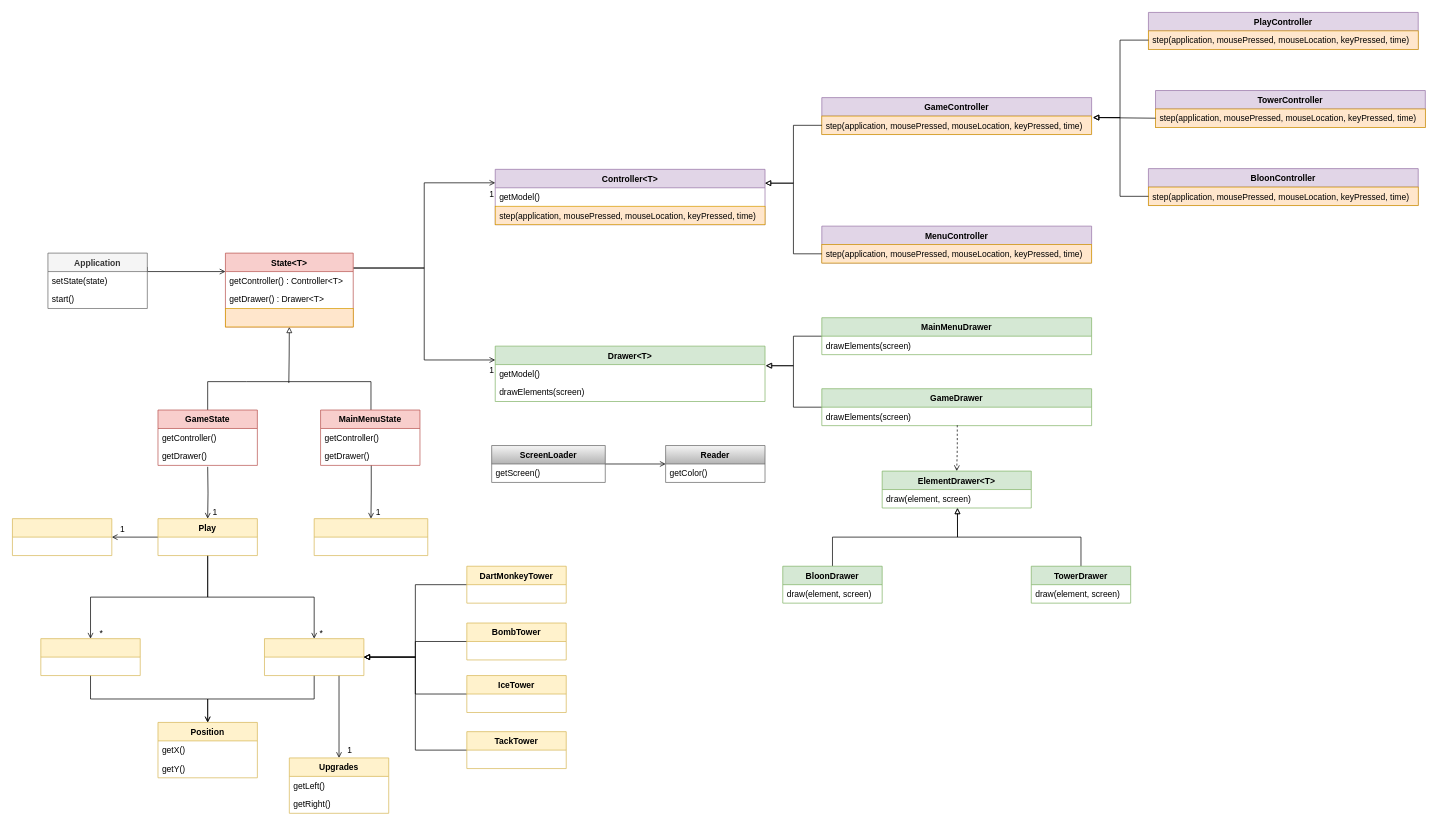
Image size: 1438x828. Some labels were removed from this diagram. The centre of each missing label's shape, as x and y in pixels:
Bloon: the point at 90,657
Menu: the point at 370,537
Player: the point at 62,537
step(application, screen, time): the point at 289,317
Tower: the point at 314,657
